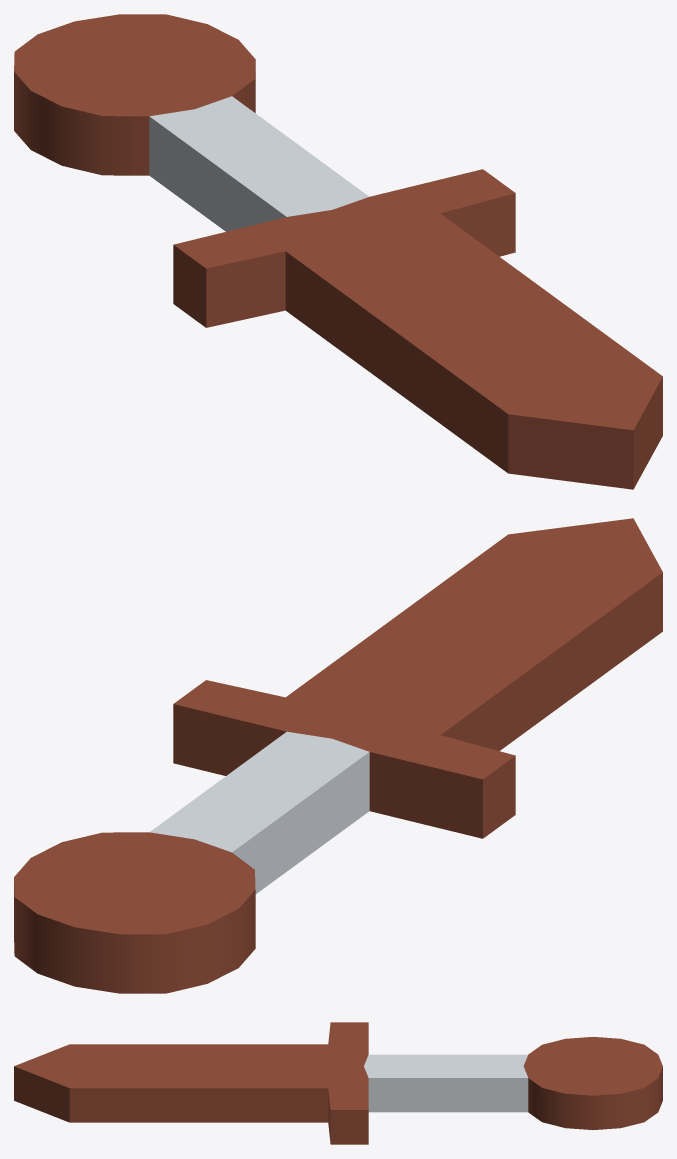
The model's file is SWORD.fbx.
3 views of the same model, one above another, from view 1: azimuth 30°, elevation 25°; view 2: azimuth 150°, elevation 25°; view 3: azimuth 270°, elevation 25° (orthographic). The views are drawn at different scales.
Visible parts, largest first — view 1: Plane; view 2: Plane; view 3: Plane.
Part boxes in pixels (bbox=[...]): Plane: bbox=[14, 14, 662, 489]; Plane: bbox=[14, 518, 662, 993]; Plane: bbox=[14, 1022, 662, 1144].
Bounding box in the file's own units: 54.58 × 10 × 171.
